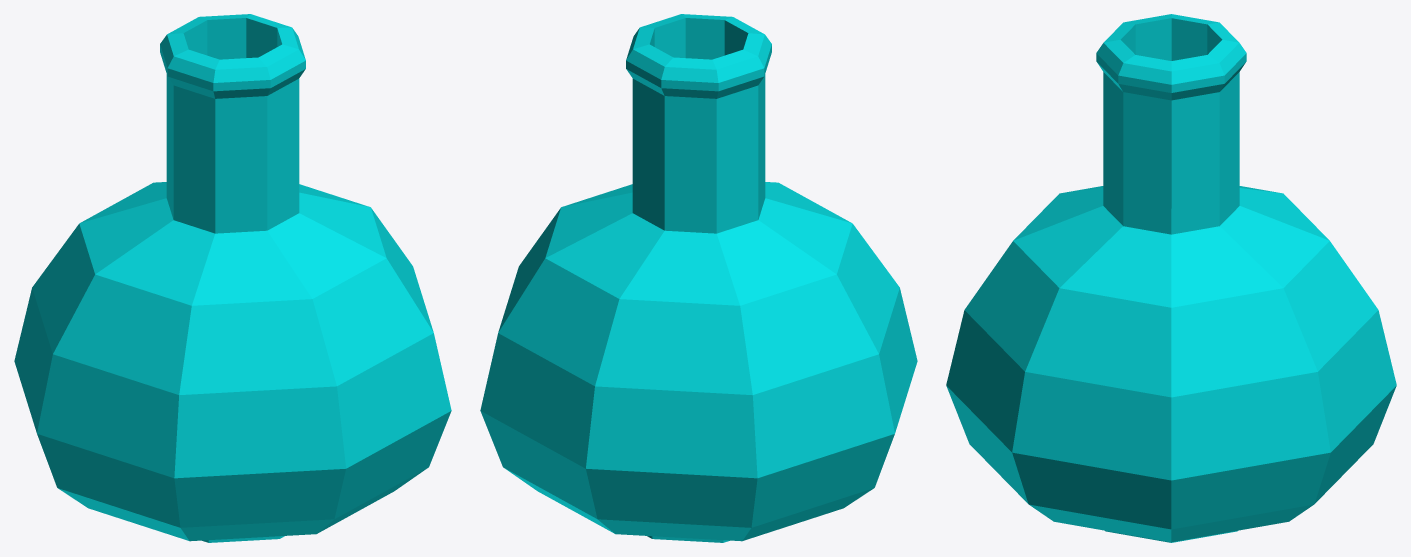
File: PurplePotion.fbx
3 views of the same model, side by side, from view 1: azimuth 30°, elevation 25°; view 2: azimuth 150°, elevation 25°; view 3: azimuth 270°, elevation 25° (orthographic).
Parts seen in each view (by area): view 1: Circle.002; view 2: Circle.002; view 3: Circle.002.
Part boxes in pixels (bbox=[...]): Circle.002: bbox=[14, 14, 451, 542]; Circle.002: bbox=[480, 14, 917, 542]; Circle.002: bbox=[946, 14, 1396, 542].
Bounding box in the file's own units: 50.36 × 57.2 × 50.36.
